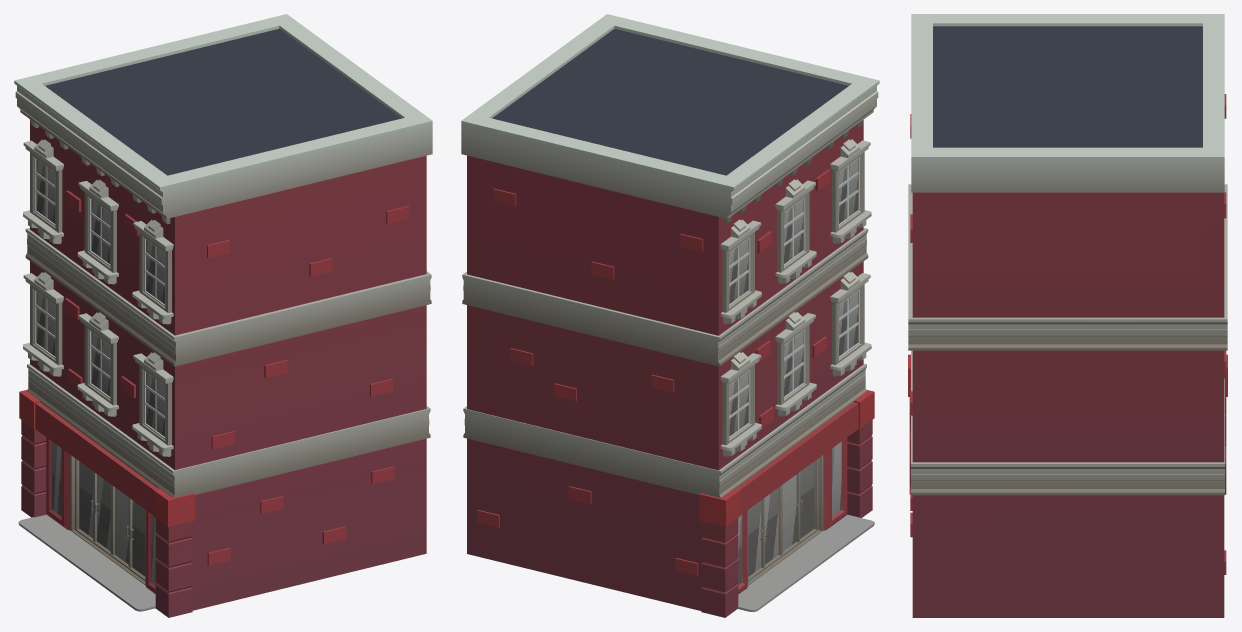
File: Building_21_3_F.fbx
3 views of the same model, side by side, from view 1: azimuth 30°, elevation 25°; view 2: azimuth 150°, elevation 25°; view 3: azimuth 270°, elevation 25° (orthographic). The views are drawn at different scales.
Visible parts, largest first — view 1: Building_21_3_F; view 2: Building_21_3_F; view 3: Building_21_3_F.
Part boxes in pixels (box(x1,y1,x2,y2)): Building_21_3_F: box(14, 14, 432, 617); Building_21_3_F: box(461, 14, 879, 617); Building_21_3_F: box(908, 14, 1227, 617).
Bounding box in the file's own units: 779 × 1141 × 713.
